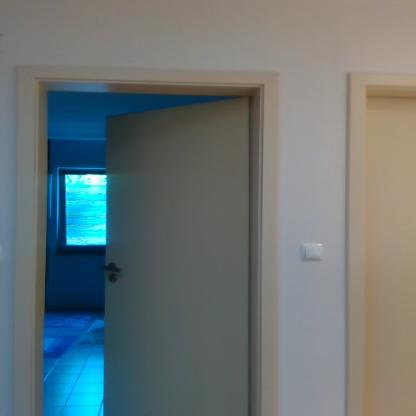semi: (6, 50, 302, 416)
